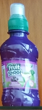blueberries: (1, 3, 40, 107)
